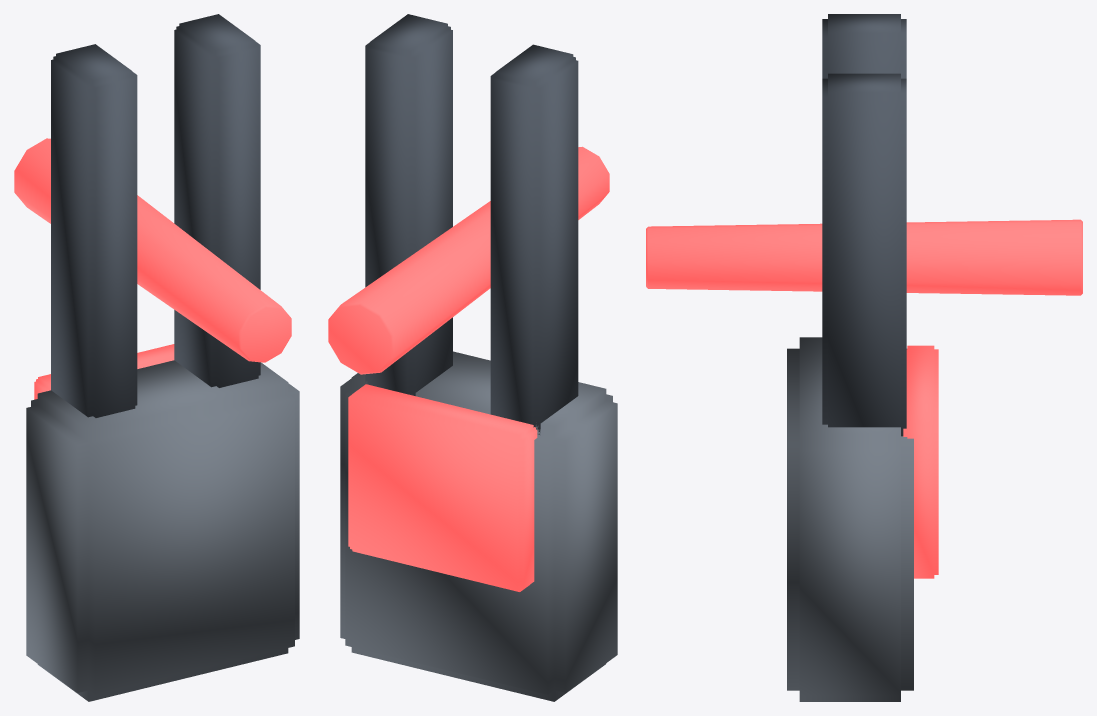
Rendered from ranged_cannon.glb.
3 views of the same model, side by side, from view 1: azimuth 30°, elevation 25°; view 2: azimuth 150°, elevation 25°; view 3: azimuth 270°, elevation 25° (orthographic). The views are drawn at different scales.
Parts seen in each view (by area): view 1: ranged_cannon; view 2: ranged_cannon; view 3: ranged_cannon.
Part boxes in pixels (x1=…): ranged_cannon: x1=14, y1=14, x2=299, y2=701; ranged_cannon: x1=328, y1=14, x2=617, y2=701; ranged_cannon: x1=646, y1=14, x2=1082, y2=701.
Bounding box in the file's own units: 0.36 × 0.94 × 0.62.
